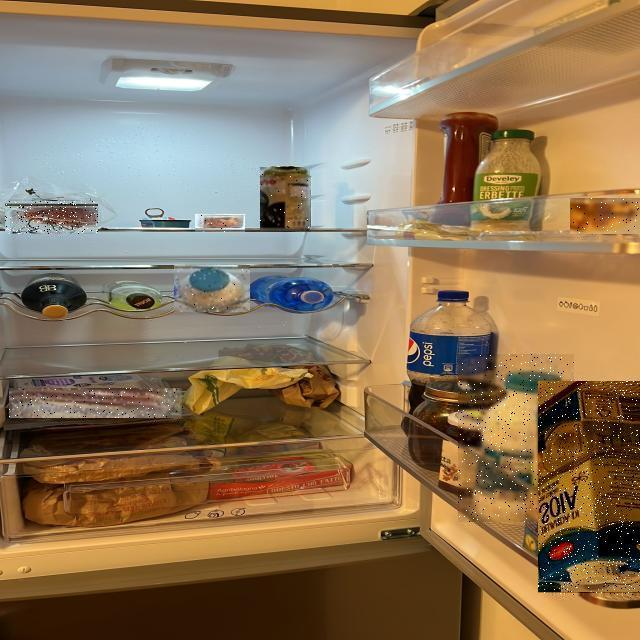Bacon: (195, 214, 245, 232)
Ham: (10, 388, 184, 418)
Lemon: (570, 198, 640, 234)
Milk: (538, 382, 640, 596), (458, 354, 574, 522), (174, 265, 250, 312)
Olives: (261, 167, 311, 231)
Tomatoes: (5, 201, 98, 234)
